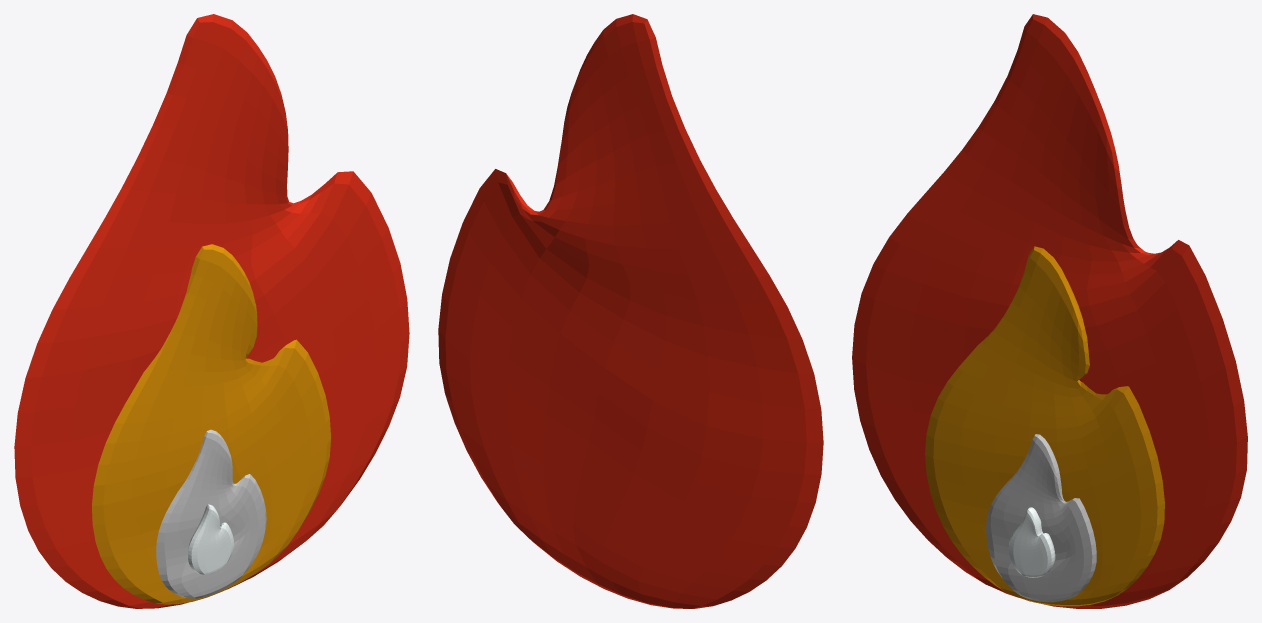
File: fire_separate.gltf
3 renders of one model, left to right at view 1: azimuth 30°, elevation 25°; view 2: azimuth 150°, elevation 25°; view 3: azimuth 330°, elevation 25°, orthographic. The views are drawn at different scales.
Visible parts, largest first — view 1: Fire; view 2: Fire; view 3: Fire.
Part boxes in pixels (x1,y1,x2,y2): Fire: (14,14,409,608); Fire: (438,14,823,608); Fire: (852,14,1247,608).
Bounding box in the file's own units: 2.54 × 3.64 × 0.2276.
